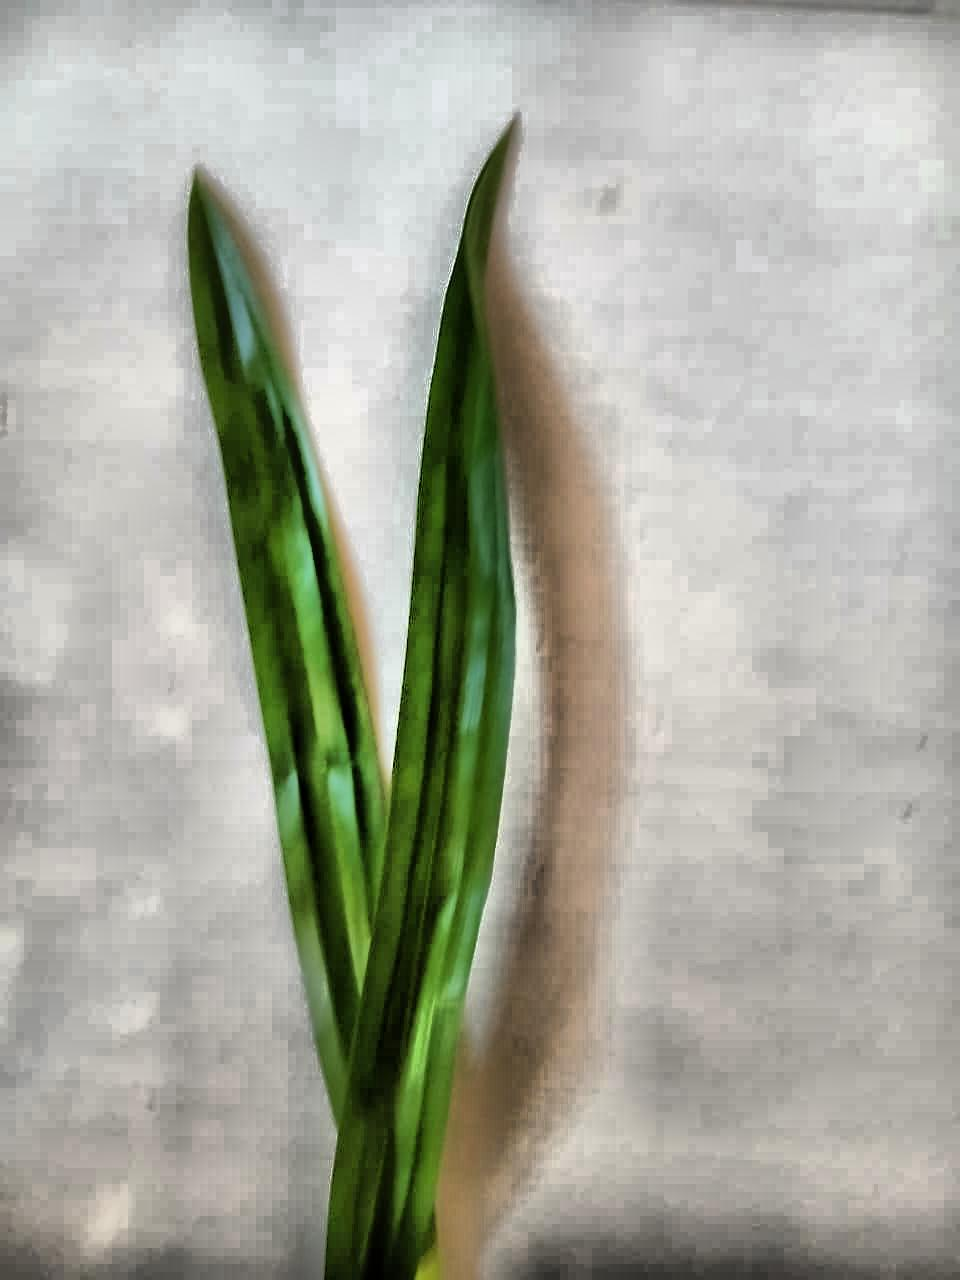daun pandan: (188, 126, 514, 1279)
